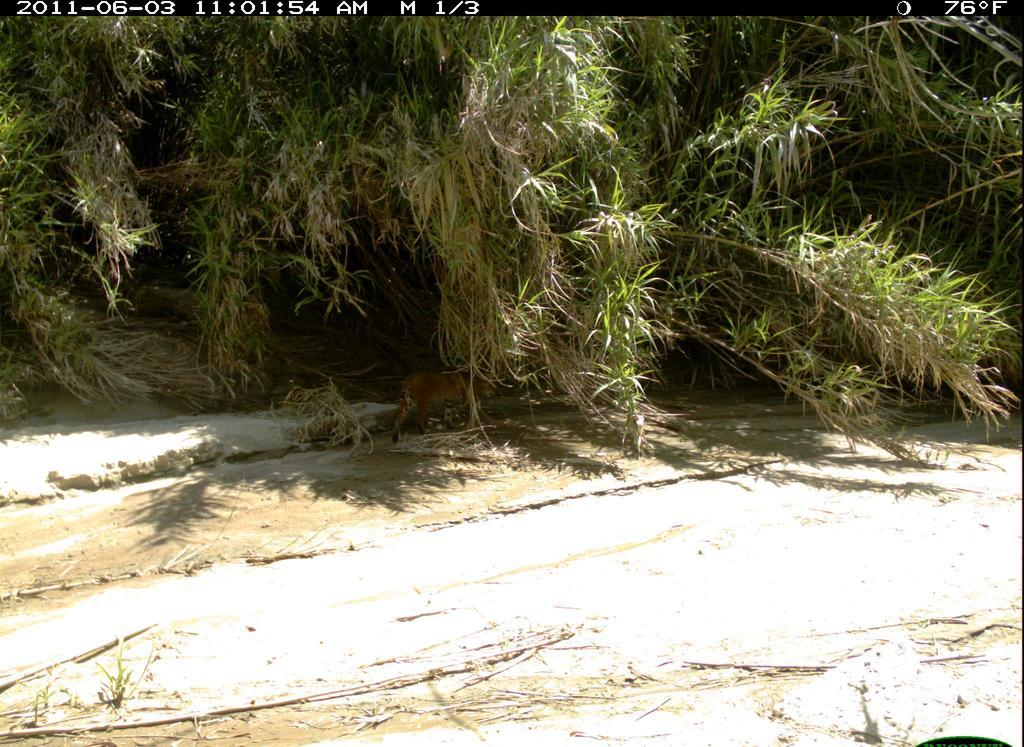bobcat: (382, 359, 502, 445)
